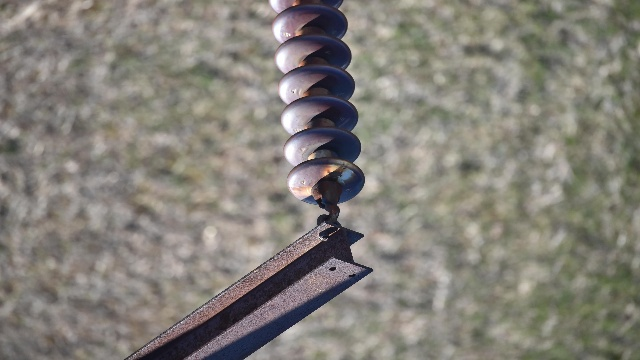insulator_unspecified: (269, 0, 364, 204)
pollution_flashover_local: (325, 159, 358, 185), (293, 182, 322, 204)
